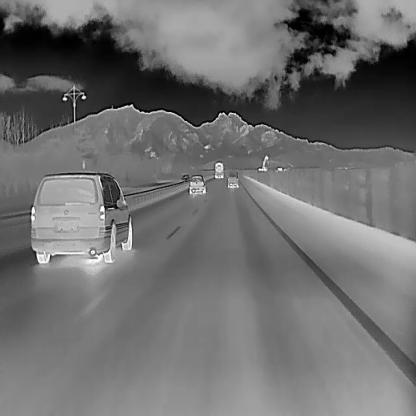car: (29, 171, 133, 263), (188, 174, 206, 193), (226, 168, 239, 188), (180, 173, 189, 181)
truck: (213, 161, 224, 178)
